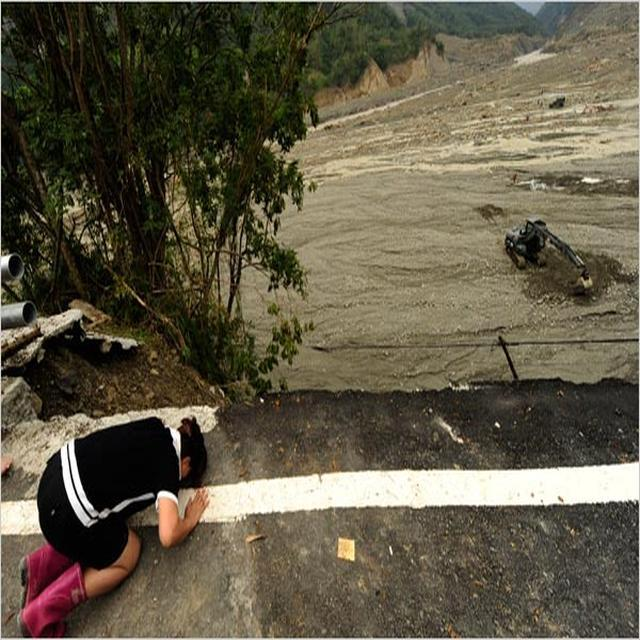Person-RiskLevel1: (18, 406, 226, 638)
